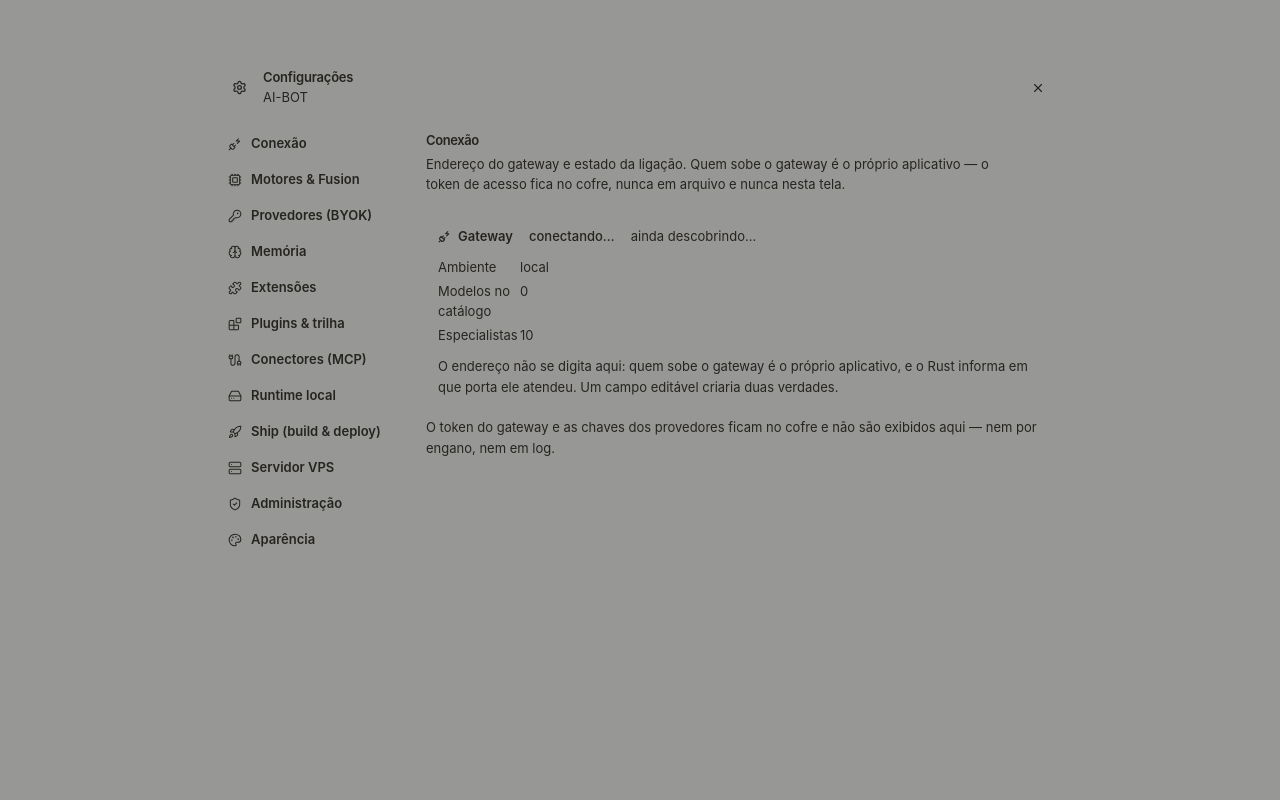
Test: menu das configurações › abre em Conexão e troca de painel ao clicar
The image size is (1280, 800).
Expected: the button "Conexão" is shown, [218,127,402,161]
Click the button "Aparência". click: (310,540)
box: [218,523,402,557]
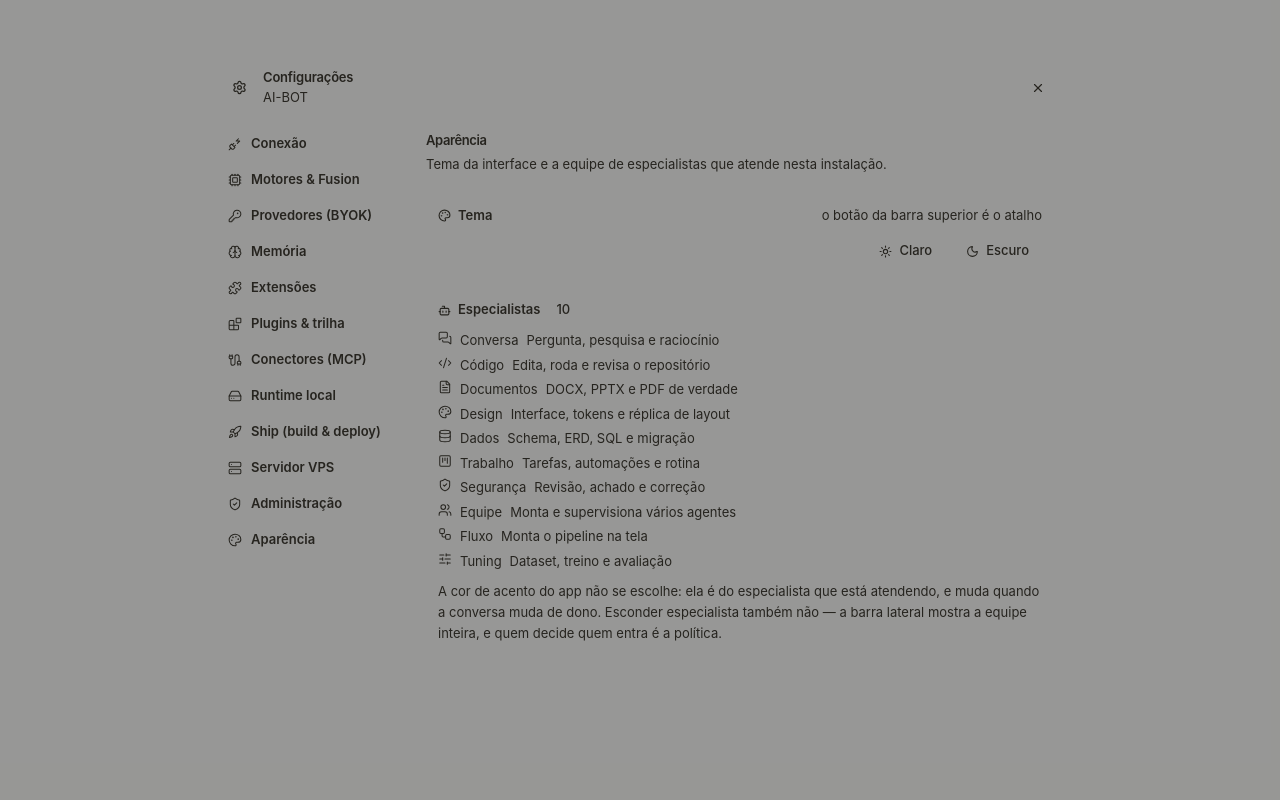
Expected: the text "especialistas" is shown, [426,156,887,172]
Now the text "gateway" is gone
